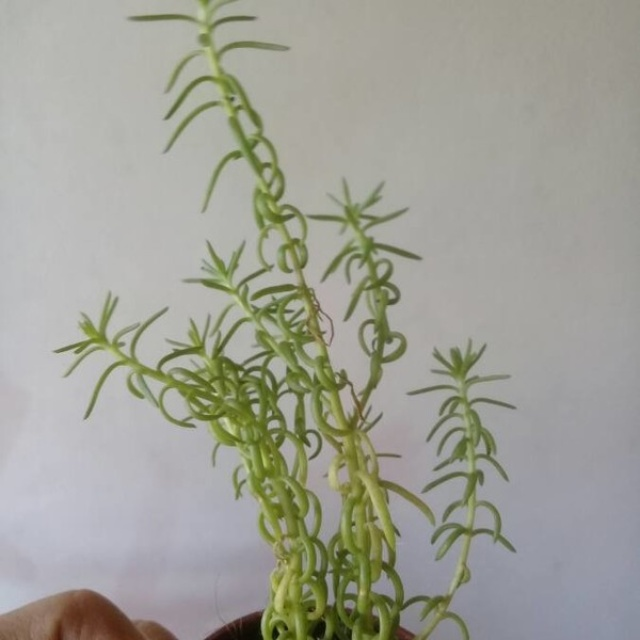obstacle: (60, 30, 514, 615)
